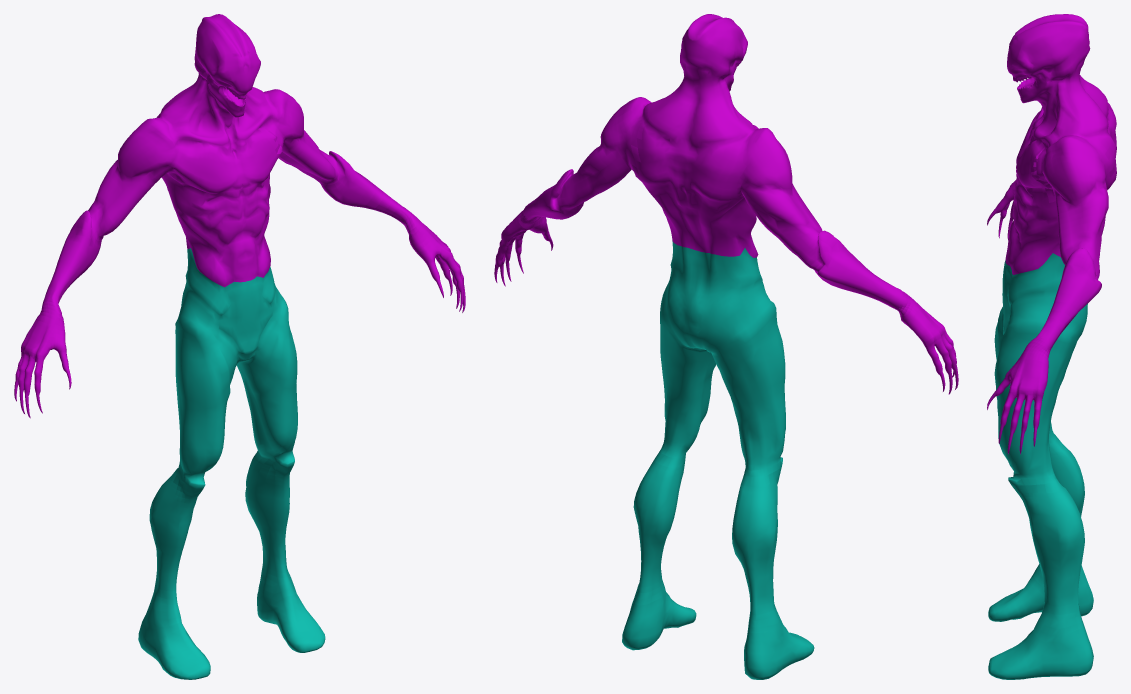
The model's file is alien.obj.
3 views of the same model, side by side, from view 1: azimuth 30°, elevation 25°; view 2: azimuth 150°, elevation 25°; view 3: azimuth 270°, elevation 25° (orthographic). The views are drawn at different scales.
Visible parts, largest first — view 1: Mesh_Bio_Mutant_Mesh; view 2: Mesh_Bio_Mutant_Mesh; view 3: Mesh_Bio_Mutant_Mesh.
Part boxes in pixels (x1,y1,x2,y2): Mesh_Bio_Mutant_Mesh: (14,14,465,679); Mesh_Bio_Mutant_Mesh: (494,14,958,679); Mesh_Bio_Mutant_Mesh: (987,14,1116,679).
Bounding box in the file's own units: 1.36 × 1.83 × 0.344.
